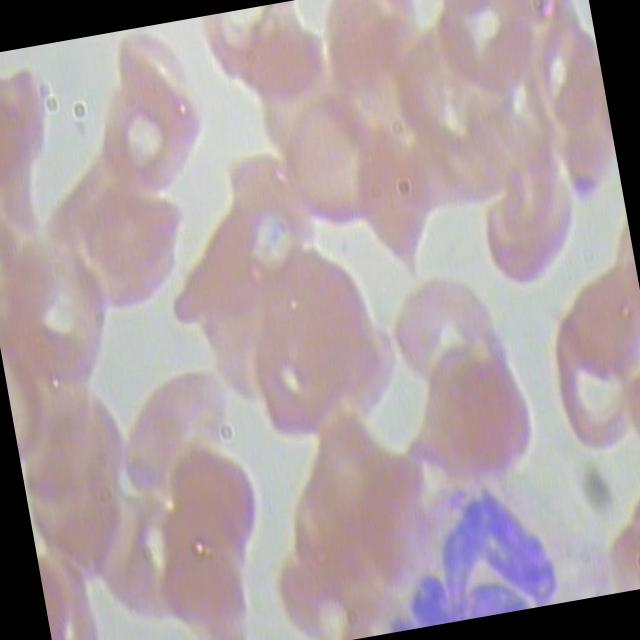RBC: (236, 240, 382, 420), (393, 342, 552, 496), (266, 83, 401, 254), (108, 362, 252, 517), (0, 219, 128, 390), (280, 400, 406, 568), (464, 134, 590, 300), (332, 120, 458, 286), (378, 264, 513, 410), (531, 292, 640, 465), (86, 70, 210, 218), (107, 18, 222, 164), (155, 437, 269, 582), (421, 0, 554, 117), (144, 529, 258, 640)
WBC: (314, 454, 618, 640)
